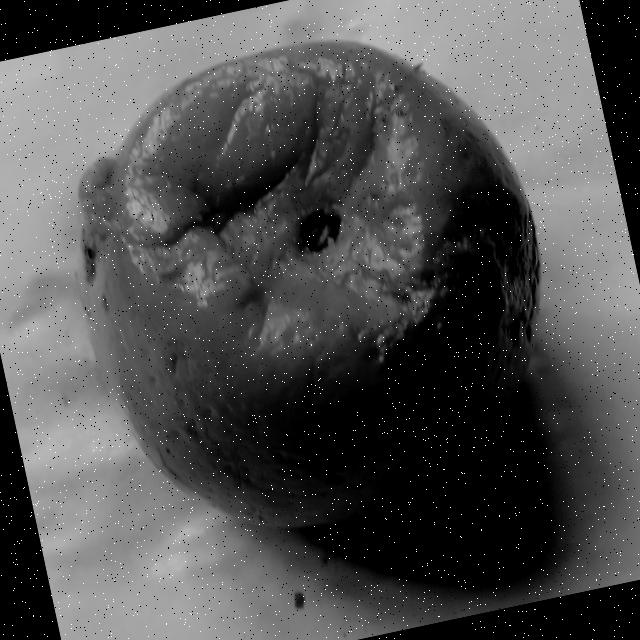Rotten: (36, 0, 589, 569)
